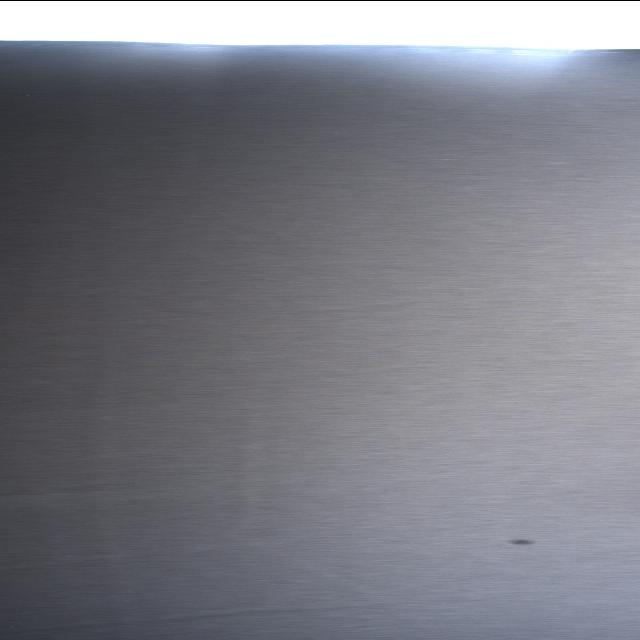crease: (2, 583, 589, 636), (211, 381, 269, 531), (0, 540, 244, 575), (0, 477, 168, 510)
